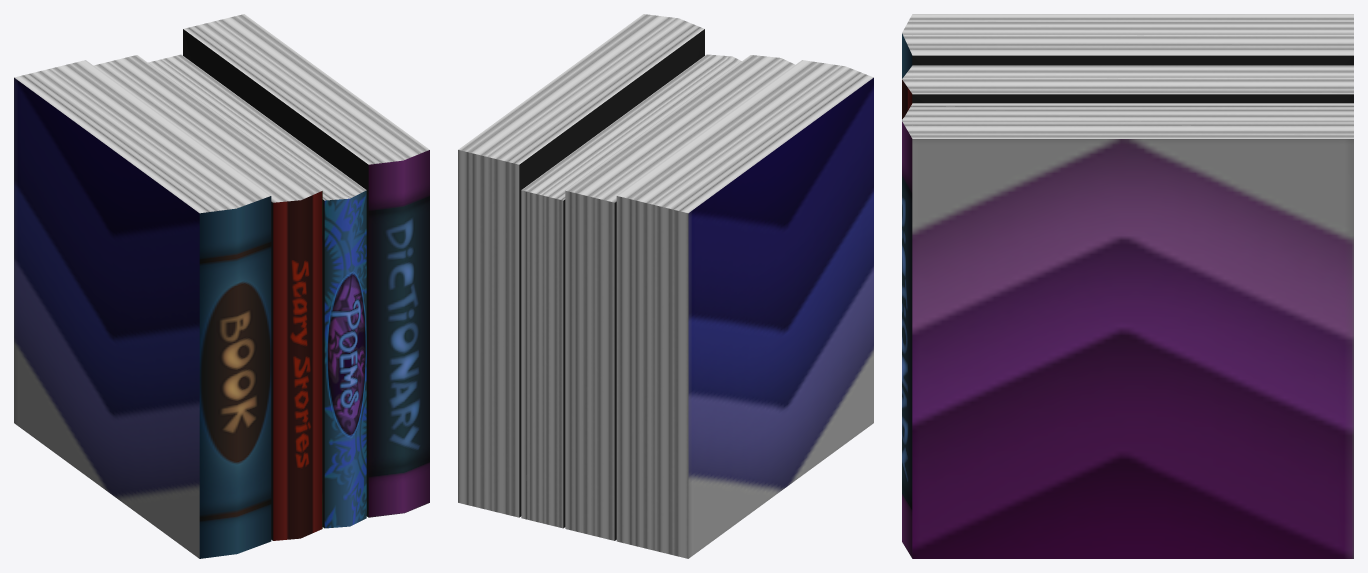
File: Books_E.FBX
3 renders of one model, left to right at view 1: azimuth 30°, elevation 25°; view 2: azimuth 150°, elevation 25°; view 3: azimuth 270°, elevation 25°, orthographic. The views are drawn at different scales.
Parts seen in each view (by area): view 1: Books_02; view 2: Books_02; view 3: Books_02.
Boxes of the visible parts, box(x1,y1,x2,y2) form: Books_02: box(14, 14, 429, 558); Books_02: box(458, 14, 873, 558); Books_02: box(902, 14, 1353, 558).
Bounding box in the file's own units: 36.67 × 53.71 × 52.38.
